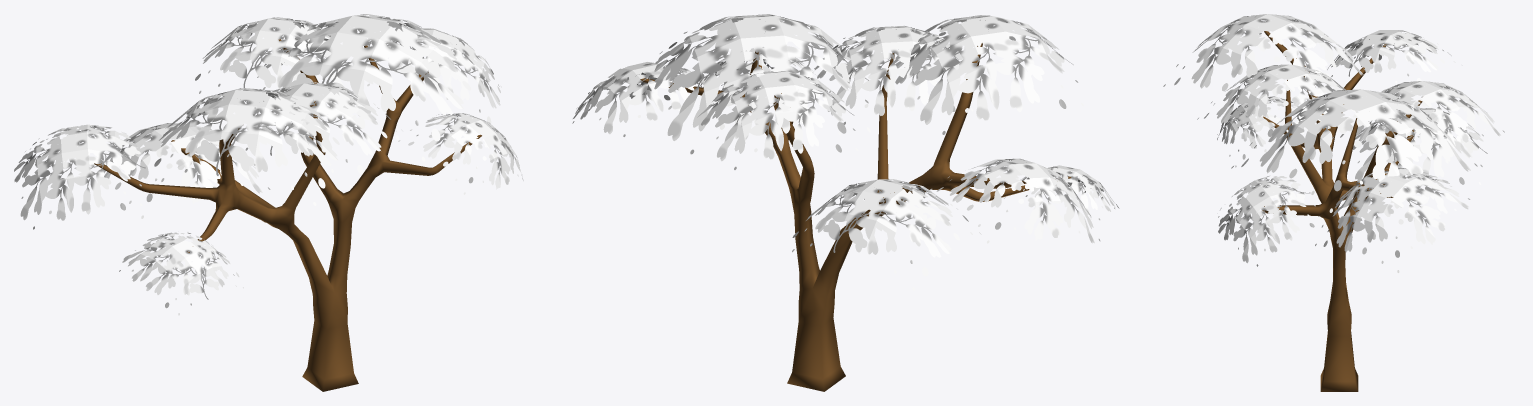
File: arvoreP2.fbx
The picture shows the model from 3 angles, left to right: view 1: azimuth 30°, elevation 25°; view 2: azimuth 150°, elevation 25°; view 3: azimuth 270°, elevation 25°; orthographic projection. The views are drawn at different scales.
Visible parts, largest first — view 1: ipe pequeno1; view 2: ipe pequeno1; view 3: ipe pequeno1.
Part boxes in pixels (x1,y1,x2,y2): ipe pequeno1: [14, 14, 523, 391]; ipe pequeno1: [572, 14, 1119, 391]; ipe pequeno1: [1163, 14, 1504, 391].
Size of the model in its own units: 673 by 433 by 467.
Materials: 2 (1 with a texture image).
